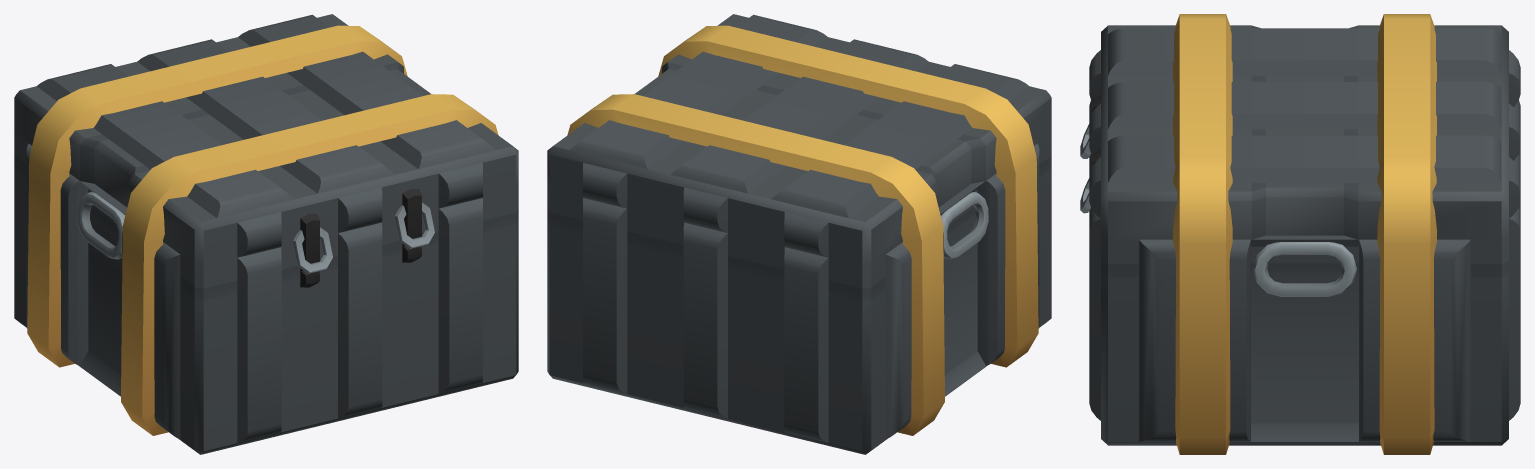
The model's file is prop_crate_large.glb.
The picture shows the model from 3 angles, left to right: view 1: azimuth 30°, elevation 25°; view 2: azimuth 150°, elevation 25°; view 3: azimuth 270°, elevation 25°; orthographic projection. The views are drawn at different scales.
Parts seen in each view (by area): view 1: Containers_Crate_Large; view 2: Containers_Crate_Large; view 3: Containers_Crate_Large.
Part boxes in pixels (left/top/right/bottom): Containers_Crate_Large: left=14, top=14, right=518, bottom=454; Containers_Crate_Large: left=547, top=14, right=1051, bottom=454; Containers_Crate_Large: left=1080, top=14, right=1520, bottom=454.
Bounding box in the file's own units: 1.57 × 1.05 × 1.51.
Materials: 1 (1 with a texture image).
